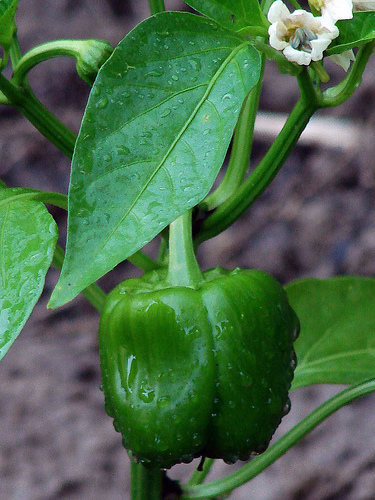capsicum: (95, 210, 301, 465)
